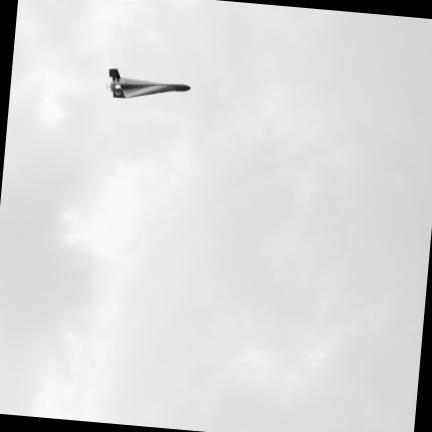Shahed: (109, 68, 189, 97)
